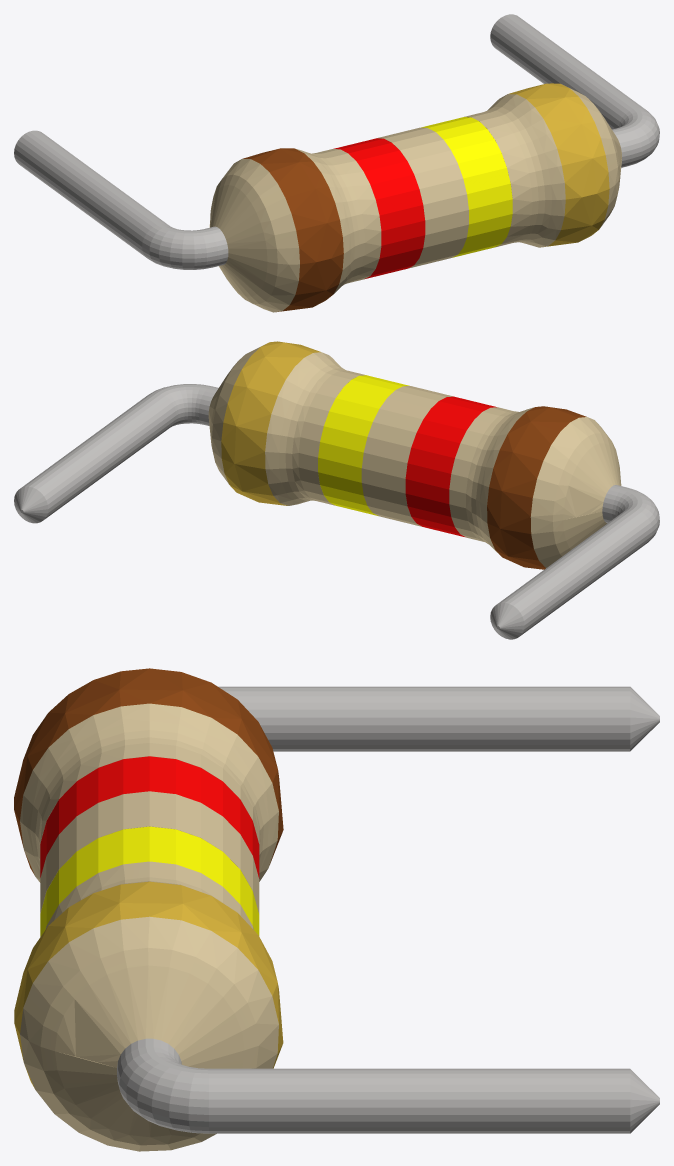
Rendered from Yageo CFR-25 Resistor Axial P7.62mm 120,0 kOhm.obj.
3 views of the same model, one above another, from view 1: azimuth 30°, elevation 25°; view 2: azimuth 150°, elevation 25°; view 3: azimuth 270°, elevation 25° (orthographic). The views are drawn at different scales.
Visible parts, largest first — view 1: Yageo_CFR-25_Resistor_Axial_P7.62mm_120,0_kOhm; view 2: Yageo_CFR-25_Resistor_Axial_P7.62mm_120,0_kOhm; view 3: Yageo_CFR-25_Resistor_Axial_P7.62mm_120,0_kOhm.
Part boxes in pixels (<box>): Yageo_CFR-25_Resistor_Axial_P7.62mm_120,0_kOhm: <box>14,14,659,312</box>; Yageo_CFR-25_Resistor_Axial_P7.62mm_120,0_kOhm: <box>14,341,659,639</box>; Yageo_CFR-25_Resistor_Axial_P7.62mm_120,0_kOhm: <box>14,668,659,1151</box>.
Size of the model in its own units: 0.0133 by 0.00368 by 0.00889.
